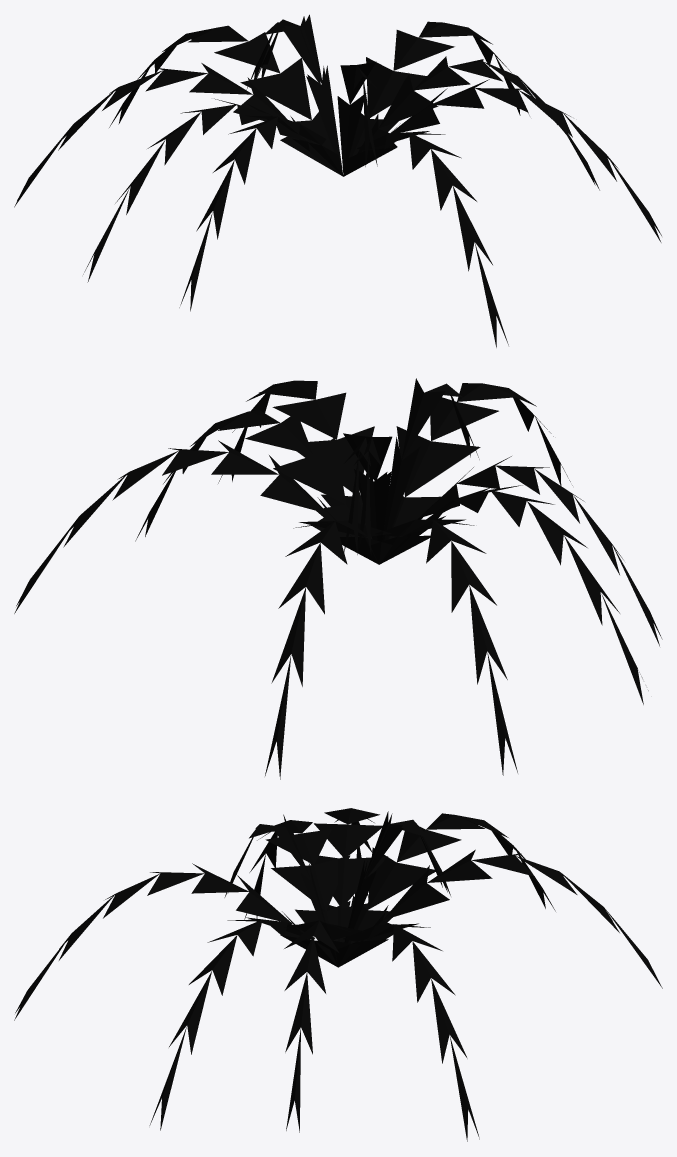
The model's file is SM_fern.fbx.
3 views of the same model, one above another, from view 1: azimuth 30°, elevation 25°; view 2: azimuth 150°, elevation 25°; view 3: azimuth 270°, elevation 25° (orthographic). The views are drawn at different scales.
Parts seen in each view (by area): view 1: fern; view 2: fern; view 3: fern.
Boxes of the visible parts, bbox=[...] form: fern: bbox=[14, 14, 661, 347]; fern: bbox=[14, 378, 662, 779]; fern: bbox=[14, 808, 662, 1141].
Bounding box in the file's own units: 1.48 × 0.5414 × 1.67.
